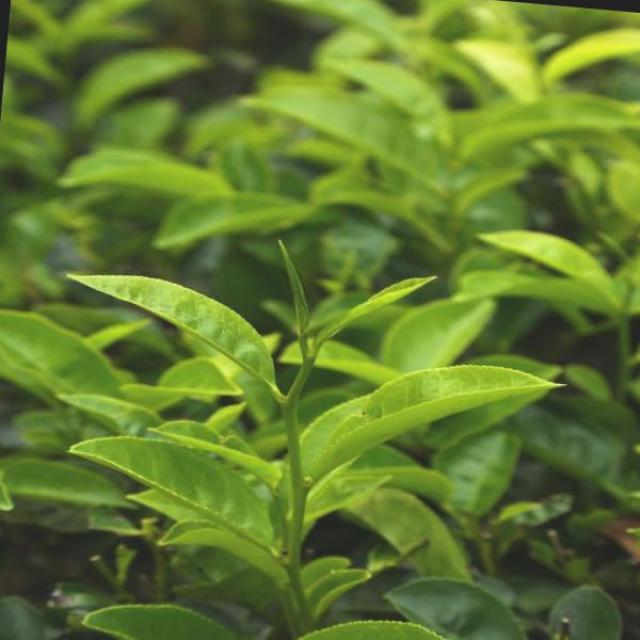Stem: (283, 397, 297, 412)
